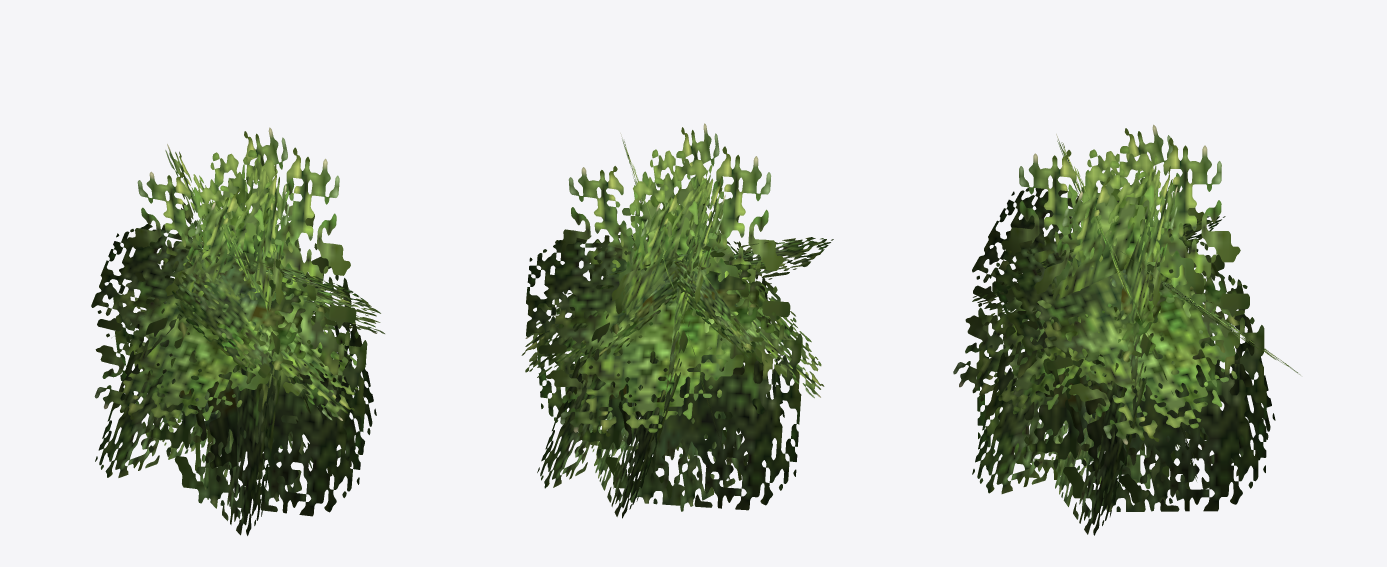
The model's file is shrub-2.glb.
3 renders of one model, left to right at view 1: azimuth 30°, elevation 25°; view 2: azimuth 150°, elevation 25°; view 3: azimuth 270°, elevation 25°, orthographic. The views are drawn at different scales.
Parts seen in each view (by area): view 1: shrub-2; view 2: shrub-2; view 3: shrub-2.
Part boxes in pixels (x1,y1,x2,y2): shrub-2: (91, 127, 384, 535); shrub-2: (521, 123, 833, 518); shrub-2: (953, 124, 1300, 535).
Size of the model in its own units: 3.66 by 3.76 by 3.74.
Materials: 1 (1 with a texture image).
